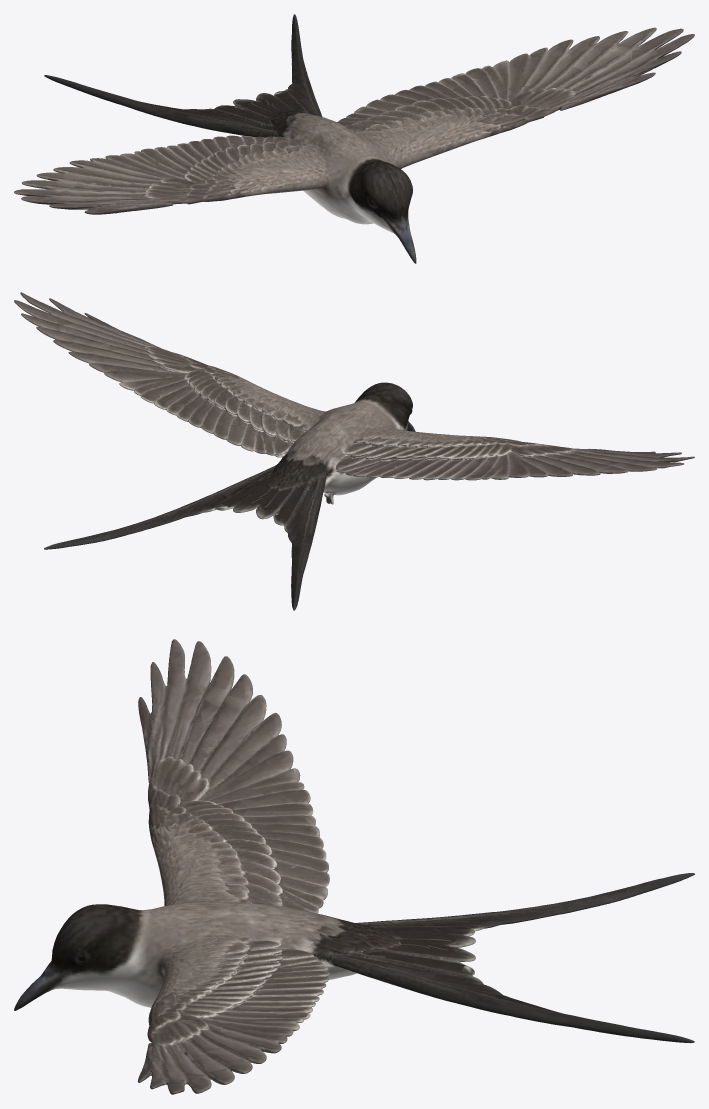
File: Tyrannus_savana.glb
3 renders of one model, top to bottom at view 1: azimuth 30°, elevation 25°; view 2: azimuth 150°, elevation 25°; view 3: azimuth 270°, elevation 25°, orthographic. The views are drawn at different scales.
Visible parts, largest first — view 1: orient; view 2: orient; view 3: orient.
Part boxes in pixels (left/top/right/bottom): orient: left=14, top=14, right=694, bottom=263; orient: left=14, top=292, right=694, bottom=610; orient: left=14, top=639, right=694, bottom=1094.
Size of the model in its own units: 0.5 by 0.0747 by 0.3173.
Materials: 1 (1 with a texture image).
